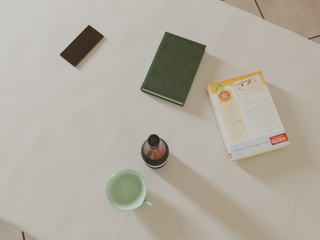book: (141, 32, 206, 106)
bottle: (141, 134, 169, 169)
box: (207, 71, 290, 161)
cup: (106, 169, 153, 211)
phone: (60, 25, 104, 67)
